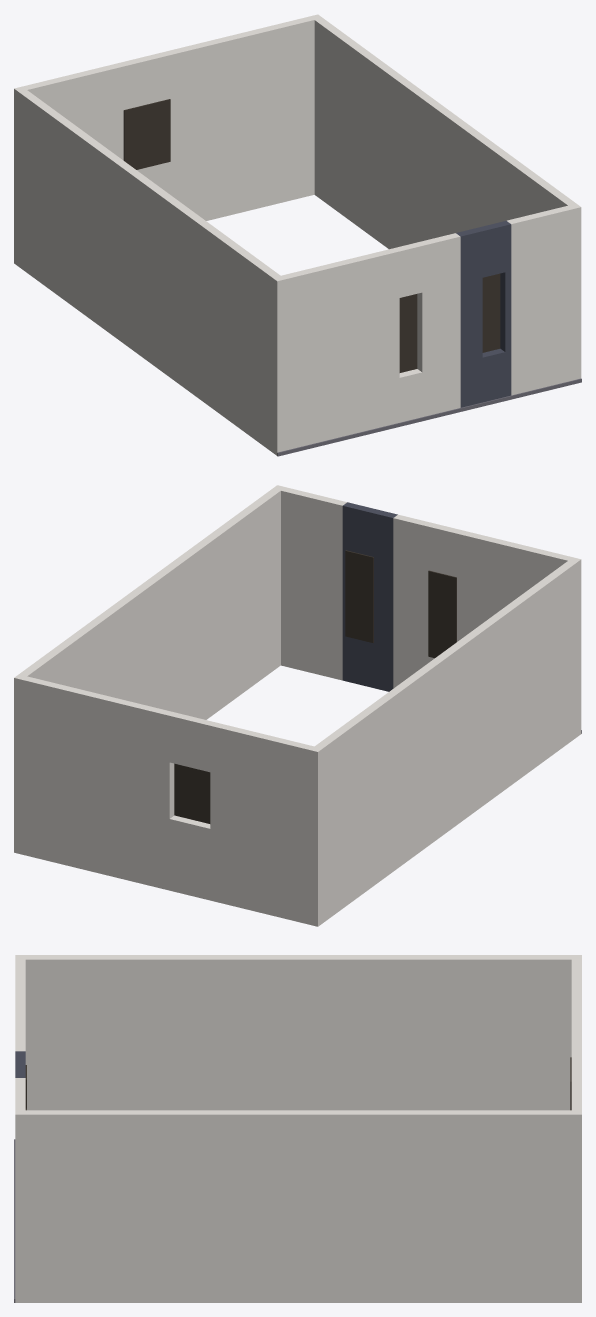
The model's file is SM_Floor_NarrowUpperScatterLow_White_546_Back_01.gltf.
The picture shows the model from 3 angles, top to bottom: view 1: azimuth 30°, elevation 25°; view 2: azimuth 150°, elevation 25°; view 3: azimuth 270°, elevation 25°; orthographic projection. The views are drawn at different scales.
Visible parts, largest first — view 1: SM_Floor_NarrowUpperScatterLow_White_546_Back_01; view 2: SM_Floor_NarrowUpperScatterLow_White_546_Back_01; view 3: SM_Floor_NarrowUpperScatterLow_White_546_Back_01.
Part boxes in pixels (x1=…): SM_Floor_NarrowUpperScatterLow_White_546_Back_01: x1=14, y1=14, x2=581, y2=456; SM_Floor_NarrowUpperScatterLow_White_546_Back_01: x1=14, y1=485, x2=581, y2=926; SM_Floor_NarrowUpperScatterLow_White_546_Back_01: x1=14, y1=955, x2=581, y2=1302.
Size of the model in its own units: 5.46 by 3 by 8.21.
Materials: 1 (1 with a texture image).
